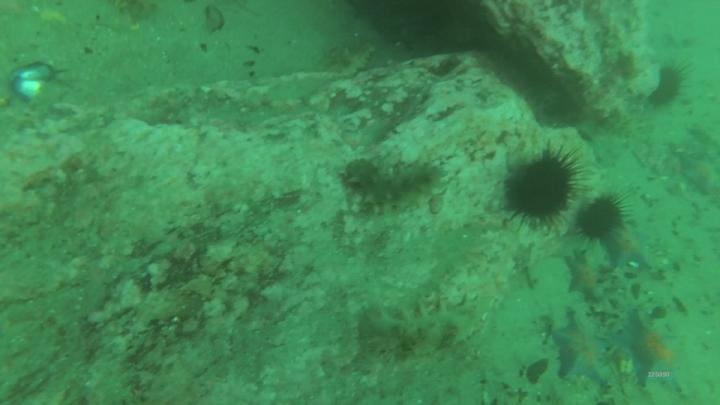echinus: (501, 145, 587, 234), (577, 188, 640, 242), (651, 61, 693, 113)
holothurian: (366, 294, 486, 357), (341, 156, 449, 216), (335, 39, 381, 80), (593, 108, 652, 139)
starfish: (609, 308, 685, 401), (548, 307, 615, 390), (562, 249, 612, 311), (603, 223, 656, 272), (677, 146, 720, 197)
